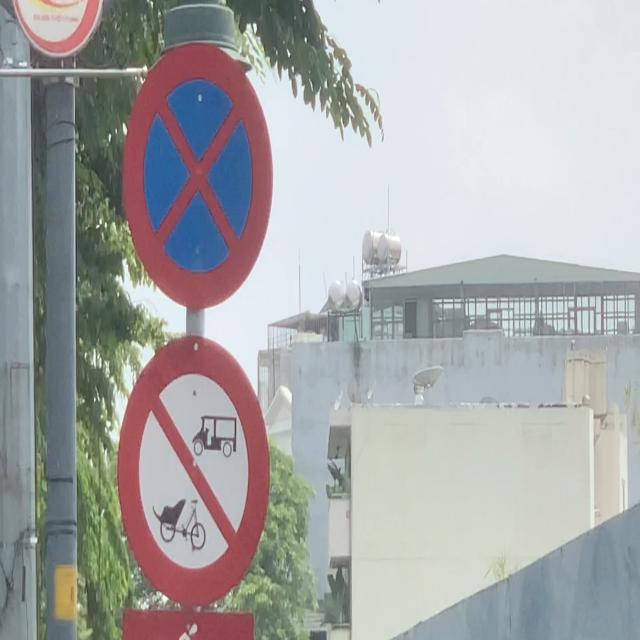Cam con lai: (110, 334, 270, 605)
Cam dung va do: (117, 37, 280, 316)
